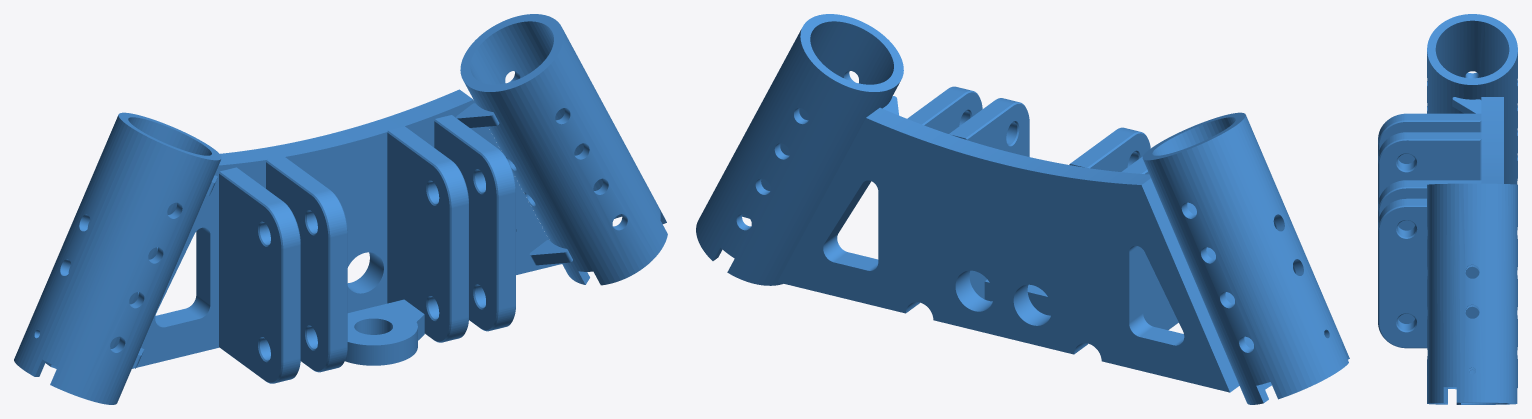
File: aframe_v10.glb
3 views of the same model, side by side, from view 1: azimuth 30°, elevation 25°; view 2: azimuth 150°, elevation 25°; view 3: azimuth 270°, elevation 25° (orthographic). The views are drawn at different scales.
Visible parts, largest first — view 1: c_02a, c_02b, c_01, c_03a, c_03c, c_03b, c_03d, c_04, c_01rdb, c_01rda; view 2: c_01, c_02a, c_02b, c_03c, c_03b, c_03d, c_03a, c_04; view 3: c_02b, c_02a, c_03d, c_03b, c_03a, c_01, c_03c, c_01ria.
Boxes of the visible parts, <box> form: c_02a: <box>14,112,221,404</box>; c_02b: <box>460,14,667,285</box>; c_01: <box>132,89,561,368</box>; c_03a: <box>219,167,300,383</box>; c_03c: <box>387,126,468,342</box>; c_03b: <box>266,156,347,372</box>; c_03d: <box>434,115,515,331</box>; c_04: <box>345,299,424,365</box>; c_01rdb: <box>529,240,572,265</box>; c_01rda: <box>456,103,499,127</box>; c_01: <box>777,107,1239,392</box>; c_02a: <box>1142,112,1349,404</box>; c_02b: <box>696,14,903,285</box>; c_03c: <box>949,98,1029,299</box>; c_03b: <box>1069,127,1150,171</box>; c_03d: <box>907,86,982,133</box>; c_03a: <box>1121,156,1178,329</box>; c_04: <box>984,279,1051,315</box>; c_02b: <box>1427,183,1517,404</box>; c_02a: <box>1427,14,1517,184</box>; c_03d: <box>1378,198,1479,348</box>; c_03b: <box>1378,132,1481,203</box>; c_03a: <box>1378,113,1481,163</box>; c_01: <box>1481,97,1503,183</box>; c_03c: <box>1378,180,1481,323</box>; c_01ria: <box>1452,97,1481,113</box>.
Size of the model in its own units: 417 by 165 by 97.75.
